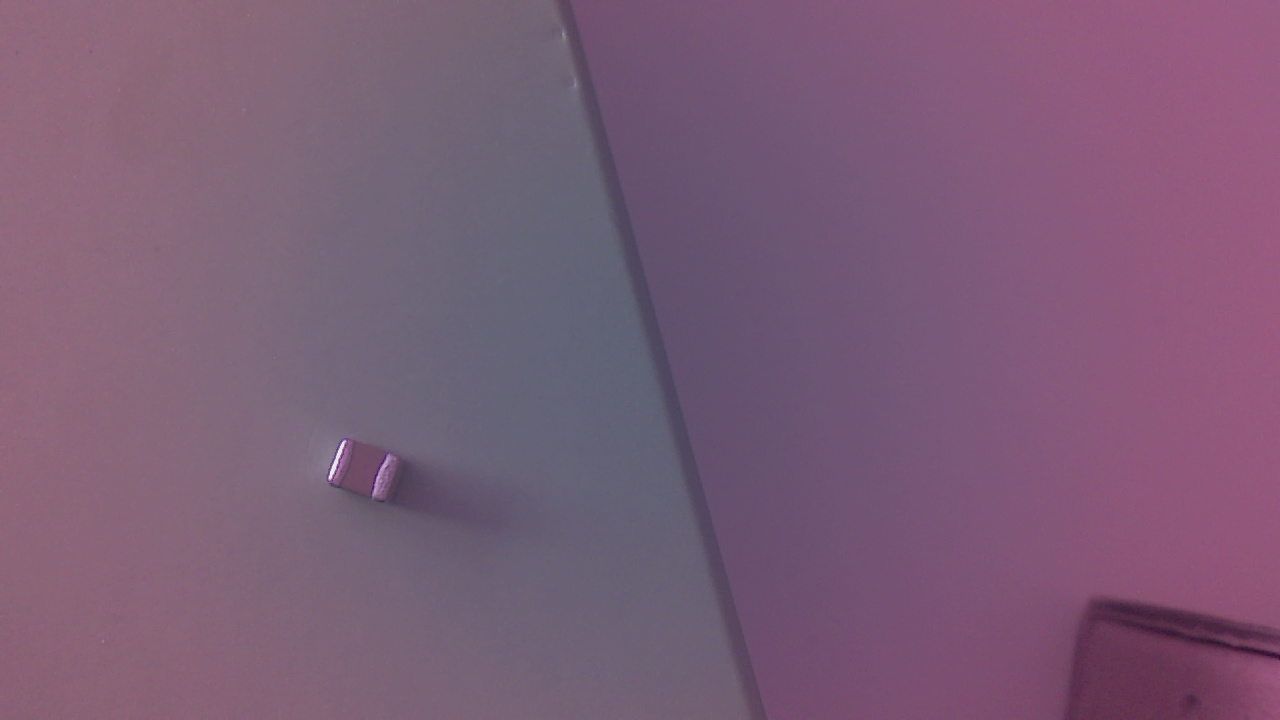Condensator: (328, 437, 412, 515)
